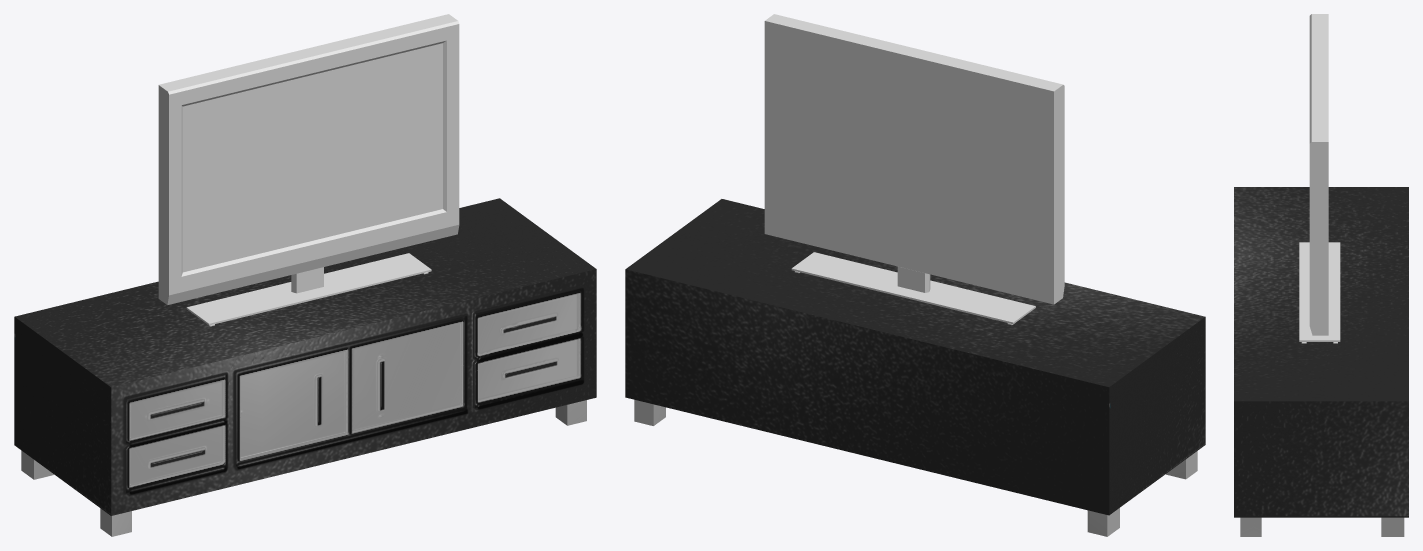
Rendered from TV_cabinet.FBX.
The picture shows the model from 3 angles, left to right: view 1: azimuth 30°, elevation 25°; view 2: azimuth 150°, elevation 25°; view 3: azimuth 270°, elevation 25°; orthographic projection. The views are drawn at different scales.
Visible parts, largest first — view 1: Box002, Box001; view 2: Box002, Box001; view 3: Box002, Box001.
Boxes of the visible parts, x1,y1,x2,y2 form: Box002: (14, 198, 596, 536); Box001: (158, 14, 459, 326); Box002: (625, 199, 1205, 536); Box001: (764, 14, 1064, 325); Box002: (1234, 187, 1408, 536); Box001: (1299, 14, 1340, 343).
Size of the model in its own units: 155 by 120 by 53.34.
